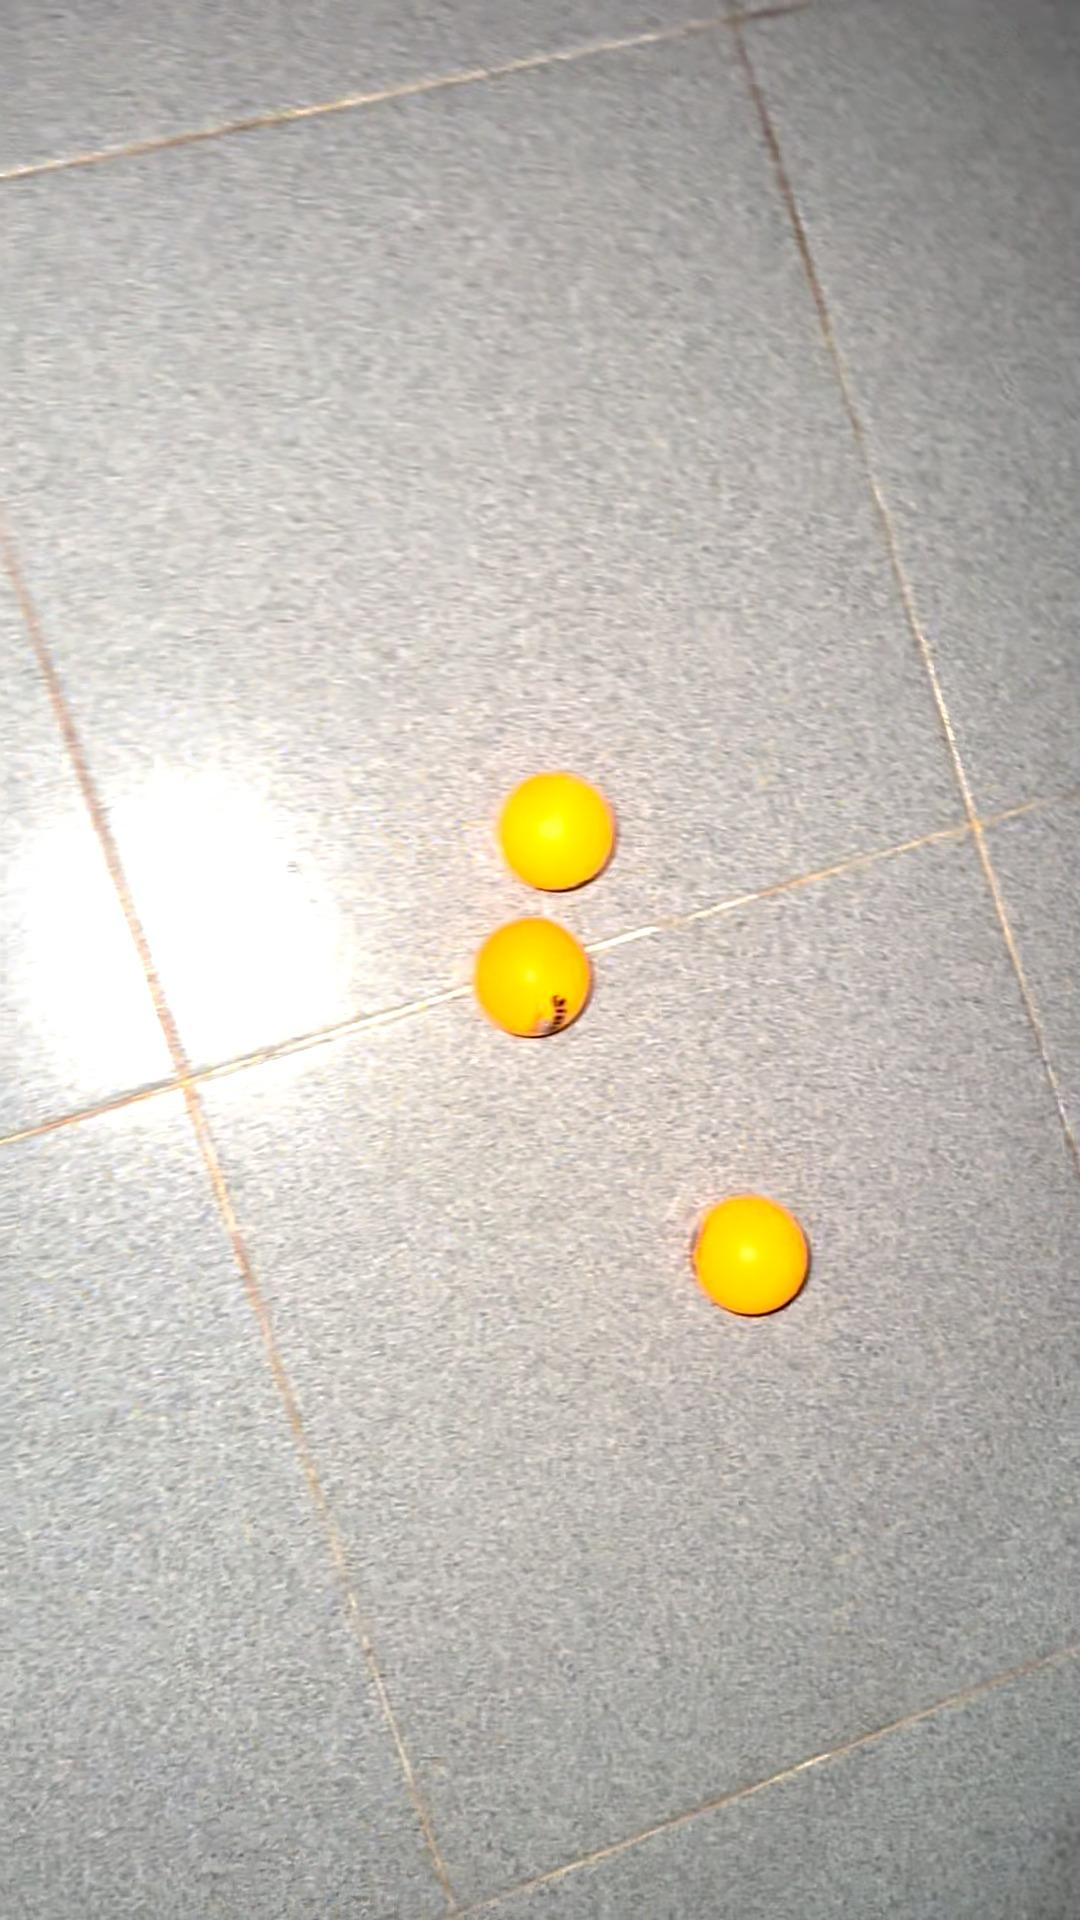oball: (464, 911, 608, 1046), (691, 1184, 824, 1327), (497, 766, 624, 895)
